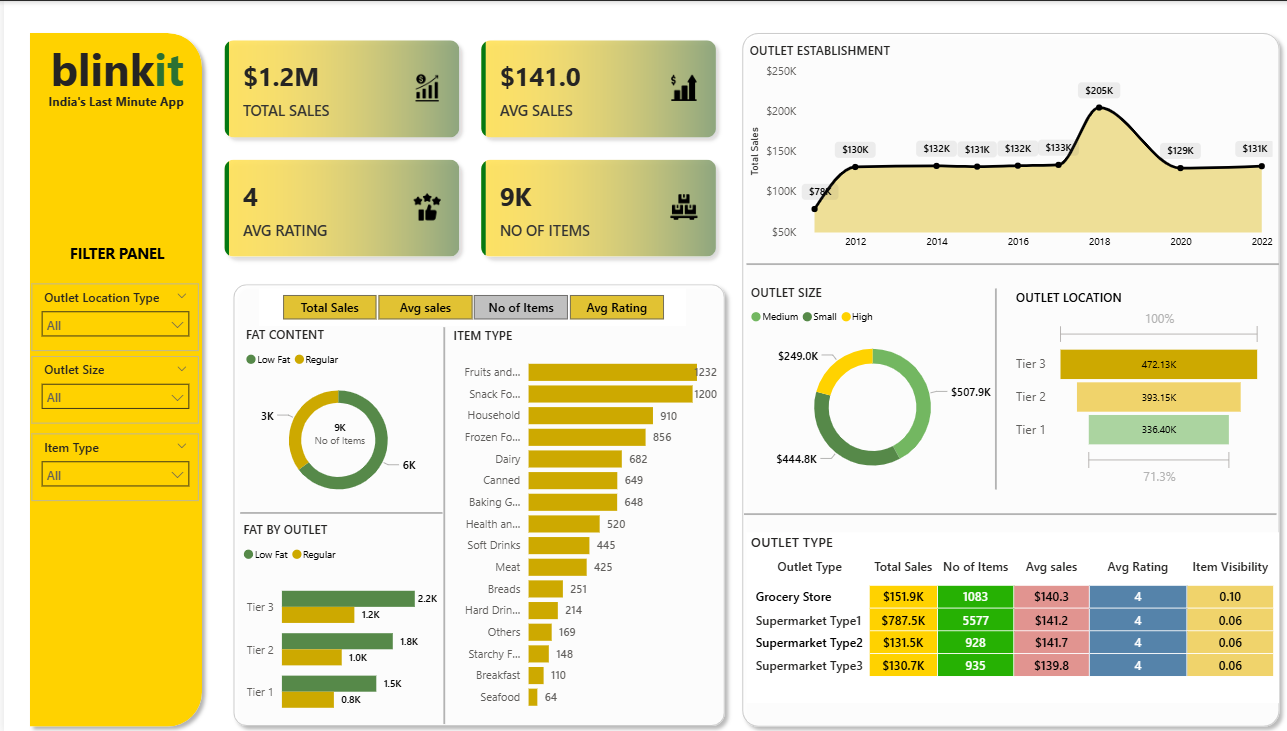

This screenshot's page, from the dashboard's own definition file:
{"tool":"powerbi","page":{"name":"Page 1","canvas":[1400,800],"ordinal":0},"visuals":[{"type":"shape","box":[19.6,25.5,205.9,774.5],"z":0},{"type":"textbox","box":[31.5,36,184.6,91.6],"z":1000},{"type":"textbox","box":[30,96.1,184.6,31.5],"z":2000},{"type":"cardVisual","fields":{"Data":["BlinkIT Grocery Data.Total Sales","BlinkIT Grocery Data.Avg sales","BlinkIT Grocery Data.Avg Rating","BlinkIT Grocery Data.No of Items"]},"box":[223.5,25.5,570.6,270.6],"z":3000},{"type":"shape","box":[241.6,300.2,553.8,499.8],"z":4000},{"type":"donutChart","title":"FAT CONTENT","fields":{"Y":["BlinkIT Grocery Data.No of Items"],"Category":["BlinkIT Grocery Data.Item Fat Content"]},"box":[258.4,354.9,211.5,203.5],"z":5000},{"type":"slicer","fields":{"Values":["Metrics.Metrics"]},"box":[277.9,314.2,465.5,40.7],"z":6000},{"type":"cardVisual","fields":{"Data":["BlinkIT Grocery Data.No of Items"]},"box":[286.7,417.2,160.6,108.1],"z":7000},{"type":"clusteredBarChart","title":"FAT BY OUTLET","fields":{"Y":["BlinkIT Grocery Data.No of Items"],"Category":["BlinkIT Grocery Data.Outlet Location Type"],"Series":["BlinkIT Grocery Data.Item Fat Content"]},"box":[255.8,567.3,221.2,228.8],"z":8000},{"type":"shape","box":[258.3,547.7,220.6,20.6],"z":9000},{"type":"shape","box":[462.3,355.7,36.1,432.8],"z":10000},{"type":"barChart","title":"ITEM TYPE","fields":{"Y":["BlinkIT Grocery Data.No of Items"],"Category":["BlinkIT Grocery Data.Item Type"]},"box":[484.9,356,297.6,427.7],"z":11000},{"type":"shape","box":[796.1,25.5,603.9,774.5],"z":12000},{"type":"lineChart","title":"OUTLET ESTABLISHMENT","fields":{"Category":["BlinkIT Grocery Data.Outlet Establishment Year"],"Y":["BlinkIT Grocery Data.Total Sales"]},"box":[808.3,44.4,580.6,234.7],"z":13000},{"type":"shape","box":[809.8,278.1,580.8,17.7],"z":14000},{"type":"donutChart","title":"OUTLET SIZE","fields":{"Y":["BlinkIT Grocery Data.Total Sales"],"Category":["BlinkIT Grocery Data.Outlet Size"]},"box":[809.8,308.1,275.4,225],"z":15000},{"type":"funnel","title":"OUTLET LOCATION","fields":{"Y":["Sum(BlinkIT Grocery Data.Sales)"],"Category":["BlinkIT Grocery Data.Outlet Location Type"]},"box":[1098.8,313.6,278.1,219.5],"z":16000},{"type":"shape","box":[1063.4,313.6,36.8,219.5],"z":17000},{"type":"shape","box":[807.1,550.8,580.8,17.7],"z":18000},{"type":"pivotTable","title":"OUTLET TYPE","fields":{"Rows":["BlinkIT Grocery Data.Outlet Type"],"Values":["BlinkIT Grocery Data.Total Sales","BlinkIT Grocery Data.No of Items","BlinkIT Grocery Data.Avg sales","BlinkIT Grocery Data.Avg Rating","Avg(BlinkIT Grocery Data.Item Visibility)"]},"box":[809.8,579.4,580.8,186.8],"z":18001},{"type":"slicer","fields":{"Values":["BlinkIT Grocery Data.Outlet Location Type"]},"box":[30,308.1,182.7,73.6],"z":18002},{"type":"slicer","fields":{"Values":["BlinkIT Grocery Data.Outlet Size"]},"box":[30,387.2,182.7,73.6],"z":18003},{"type":"slicer","fields":{"Values":["BlinkIT Grocery Data.Item Type"]},"box":[30,471.7,182.7,73.6],"z":18004},{"type":"textbox","box":[32.2,259.3,181.4,37.3],"z":18005}]}

Visuals, with their boxes in screenshot pixels (x1, y1, x2, y2), scaled from the page's 1400x800 canvas onto the 1287x731 screenshot:
shape: 18, 23, 207, 730
textbox: 29, 33, 199, 117
textbox: 28, 88, 197, 117
cardVisual - BlinkIT Grocery Data.Total Sales x BlinkIT Grocery Data.Avg sales: 205, 23, 730, 271
shape: 222, 274, 731, 730
"FAT CONTENT" donutChart: 238, 324, 432, 510
slicer - Metrics.Metrics: 255, 287, 683, 324
cardVisual - BlinkIT Grocery Data.No of Items: 264, 381, 411, 480
"FAT BY OUTLET" clusteredBarChart: 235, 518, 438, 727
shape: 237, 500, 440, 519
shape: 425, 325, 458, 720
"ITEM TYPE" barChart: 446, 325, 719, 716
shape: 732, 23, 1286, 730
"OUTLET ESTABLISHMENT" lineChart: 743, 41, 1277, 255
shape: 744, 254, 1278, 270
"OUTLET SIZE" donutChart: 744, 282, 998, 487
"OUTLET LOCATION" funnel: 1010, 287, 1266, 487
shape: 978, 287, 1011, 487
shape: 742, 503, 1276, 519
"OUTLET TYPE" pivotTable: 744, 529, 1278, 700
slicer - BlinkIT Grocery Data.Outlet Location Type: 28, 282, 196, 349
slicer - BlinkIT Grocery Data.Outlet Size: 28, 354, 196, 421
slicer - BlinkIT Grocery Data.Item Type: 28, 431, 196, 498
textbox: 30, 237, 196, 271
